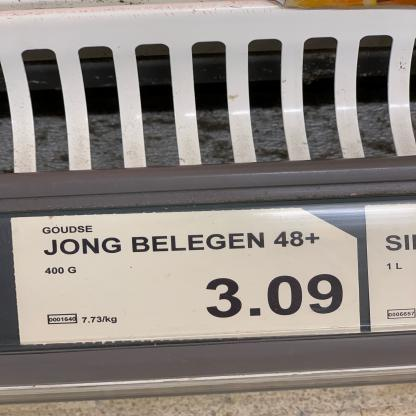prtg: (12, 206, 362, 346), (365, 205, 415, 333)
